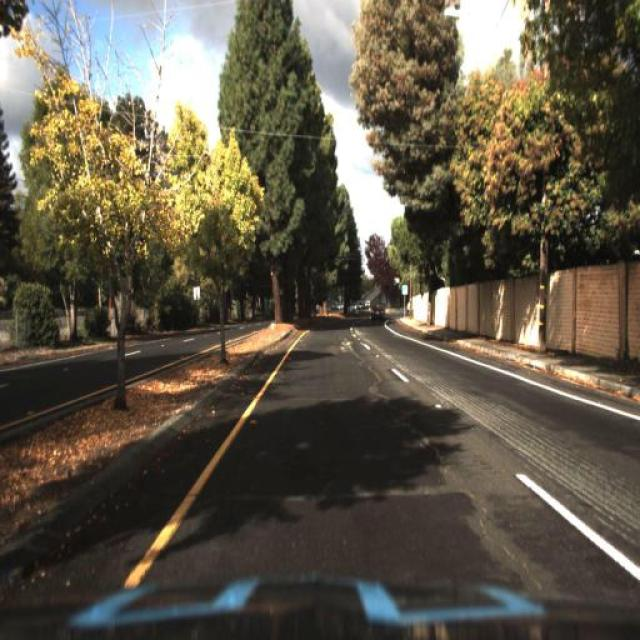car: (365, 298, 389, 324)
